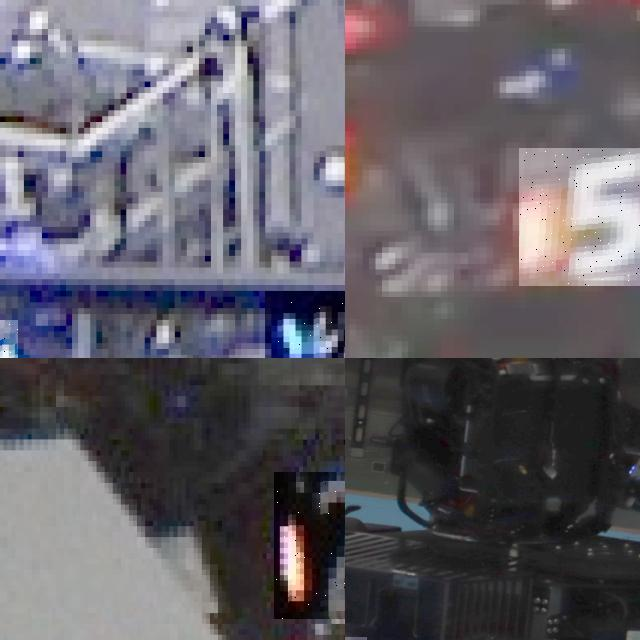B2: (265, 290, 345, 358)
R2: (274, 472, 345, 618)
R5: (519, 148, 640, 286)
